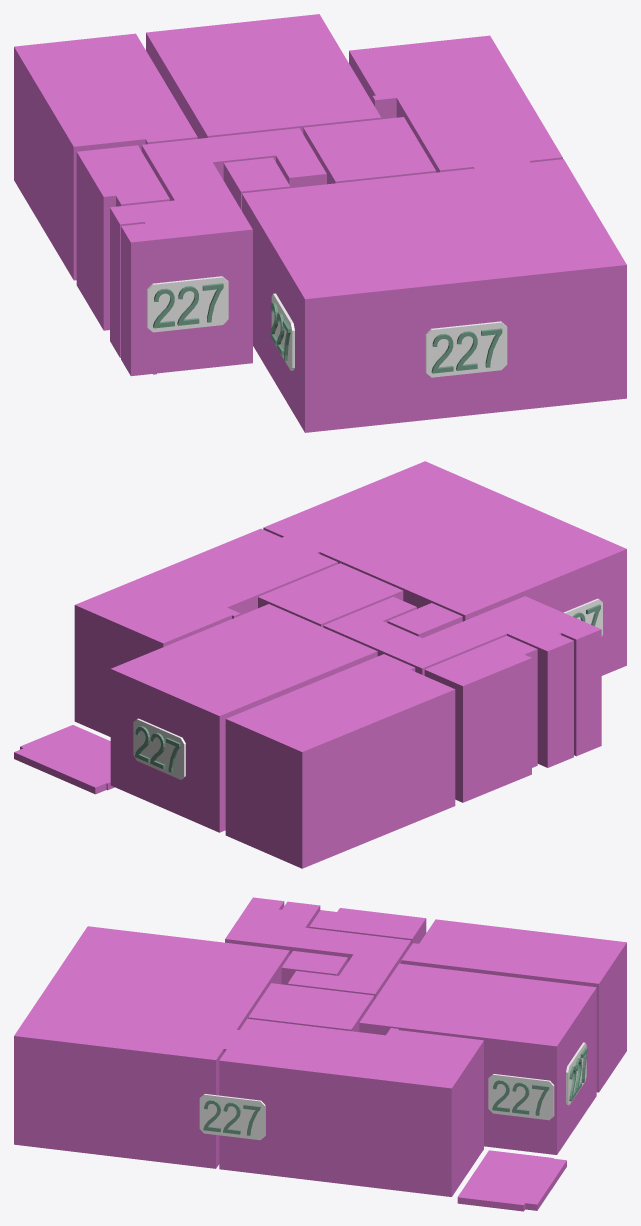
3 renders of one model, top to bottom at view 1: azimuth 30°, elevation 25°; view 2: azimuth 150°, elevation 25°; view 3: azimuth 270°, elevation 25°, orthographic. The views are drawn at different scales.
Parts seen in each view (by area): view 1: g_1, g_7, g_4, g_3, g_0, g_5, g_2, g_24, g_16, g_6, g_20; view 2: g_4, g_1, g_3, g_0, g_7, g_5, g_2, g_8, g_28, g_6; view 3: g_1, g_0, g_3, g_4, g_7, g_8, g_2, g_5, g_32, g_12, g_6, g_28.
Boxes of the visible parts, bbox=[...] form: g_1: bbox=[242, 159, 626, 432]; g_7: bbox=[110, 128, 326, 376]; g_4: bbox=[14, 33, 197, 280]; g_3: bbox=[146, 14, 381, 138]; g_0: bbox=[349, 35, 562, 172]; g_5: bbox=[76, 145, 169, 330]; g_2: bbox=[303, 117, 436, 184]; g_24: bbox=[146, 276, 228, 332]; g_16: bbox=[425, 321, 507, 377]; g_6: bbox=[223, 157, 290, 210]; g_20: bbox=[271, 293, 294, 370]; g_4: bbox=[225, 654, 455, 868]; g_1: bbox=[263, 461, 626, 675]; g_3: bbox=[110, 604, 377, 832]; g_0: bbox=[74, 528, 337, 736]; g_7: bbox=[323, 596, 601, 767]; g_5: bbox=[424, 636, 537, 802]; g_2: bbox=[258, 563, 403, 627]; g_8: bbox=[14, 725, 114, 794]; g_28: bbox=[133, 718, 185, 779]; g_6: bbox=[387, 603, 462, 638]; g_1: bbox=[14, 926, 289, 1168]; g_0: bbox=[219, 1018, 483, 1196]; g_3: bbox=[359, 963, 596, 1154]; g_4: bbox=[401, 919, 626, 1092]; g_7: bbox=[225, 897, 411, 999]; g_8: bbox=[457, 1150, 566, 1211]; g_2: bbox=[248, 983, 374, 1031]; g_5: bbox=[309, 908, 426, 944]; g_32: bbox=[199, 1094, 265, 1140]; g_12: bbox=[488, 1074, 554, 1120]; g_6: bbox=[281, 951, 347, 984]; g_28: bbox=[566, 1042, 586, 1105].
Bounding box in the file's own units: 10.08 × 2.74 × 13.16.
